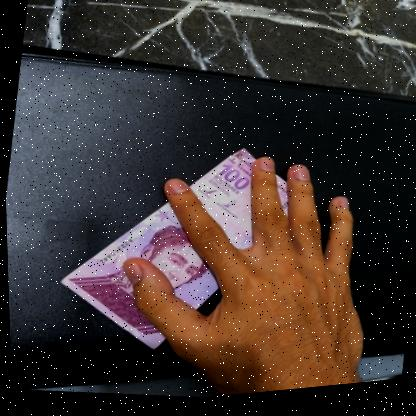one_hundred-front-vef: (45, 123, 299, 378)
